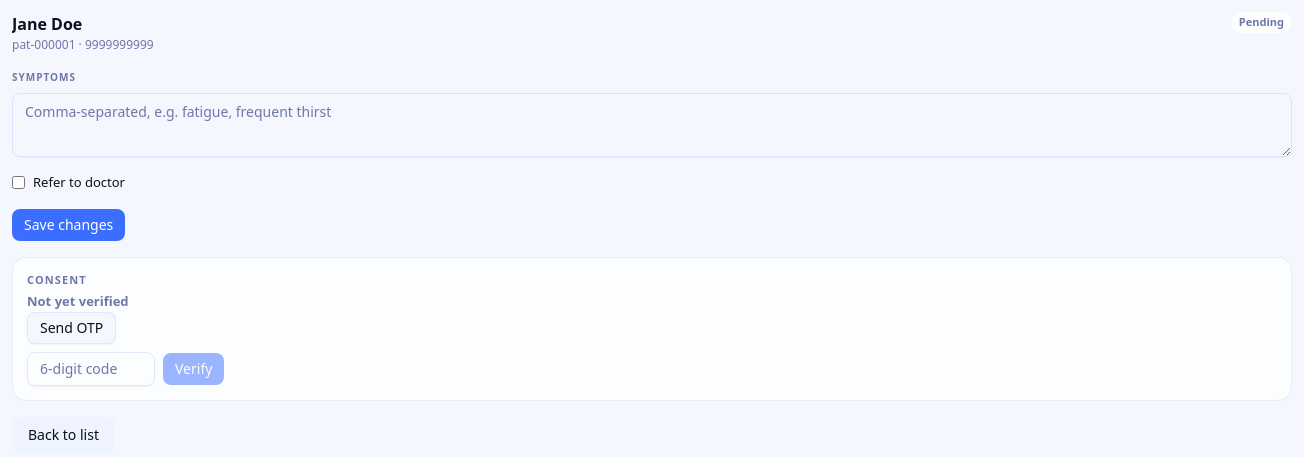
Test case: ScreeningDetail › regression: a delayed save response does not clobber a newer, unsaved edit typed while the request was in flight
Type "fever" into the text box with placeholder "Comma-separated, e.g. fatigue, frequent thirst".
click(652, 125); type("fever")  # box [12,93,1292,157]
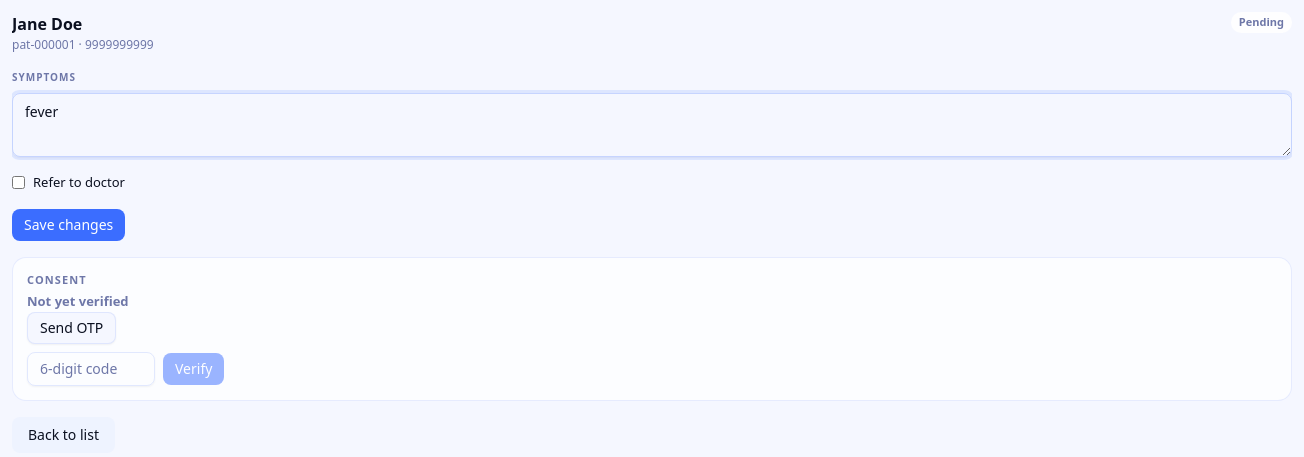
Click the button "Save changes".
click(69, 224)  # box [12,208,125,240]
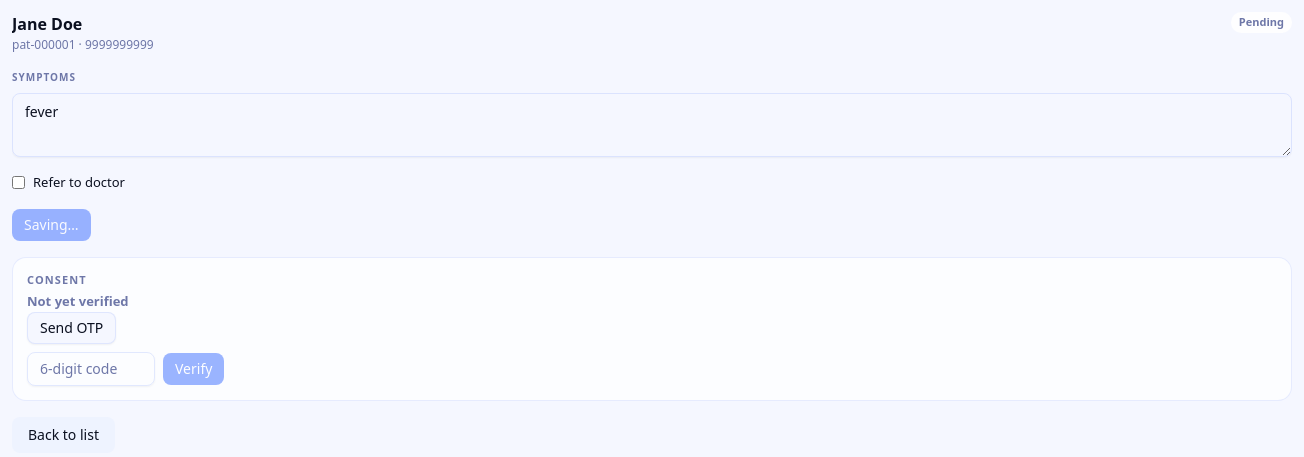
// The textarea stays editable while the request is in flight — type a further, unsaved edit.
Type ", cough" into the text box with placeholder "Comma-separated, e.g. fatigue, frequent thirst".
click(652, 125); type(", cough")  # box [12,93,1292,157]
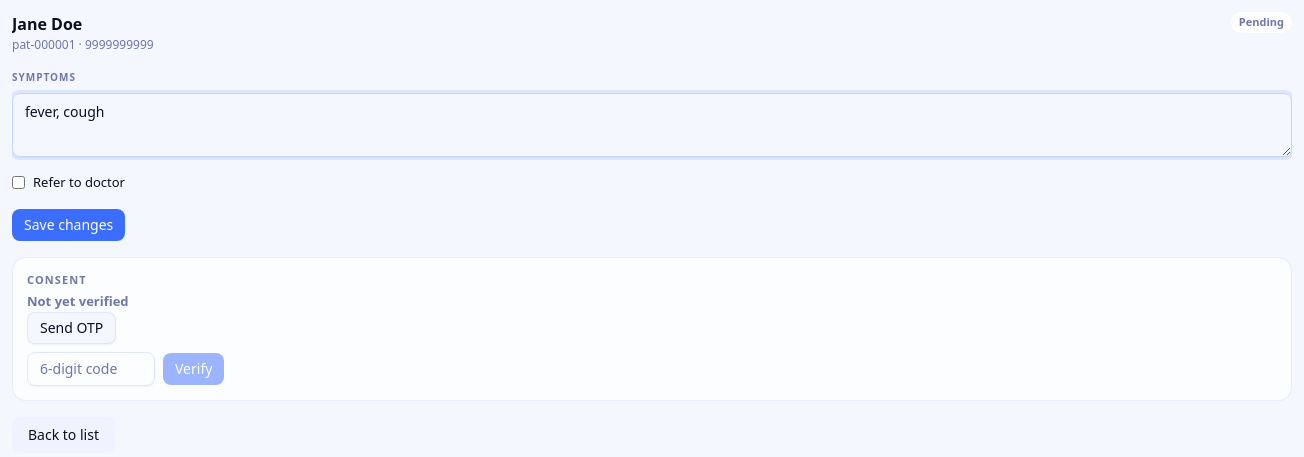
Now the button "Save changes" is enabled, box [12,208,125,240]
Now the text box with placeholder "Comma-separated, e.g. fatigue, frequent thirst" holds "fever, cough", box [12,93,1292,157]
